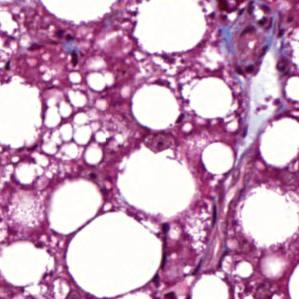steatosis: (133, 88, 187, 130)
